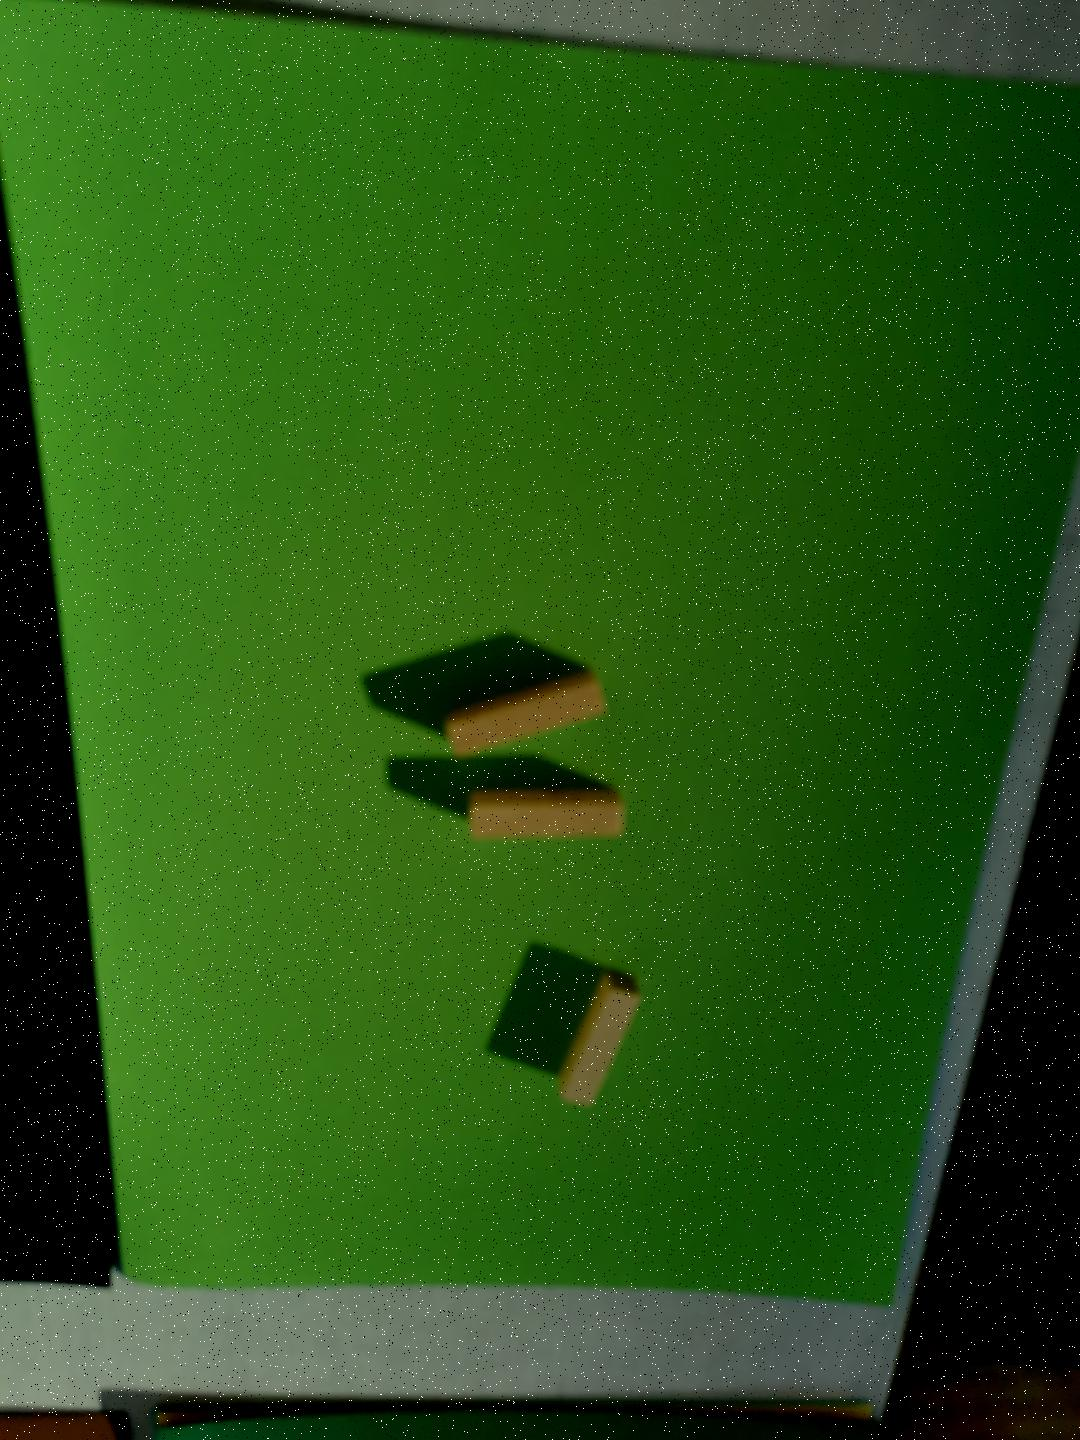jenga: (445, 672, 608, 756), (559, 971, 641, 1106), (467, 788, 624, 838)
